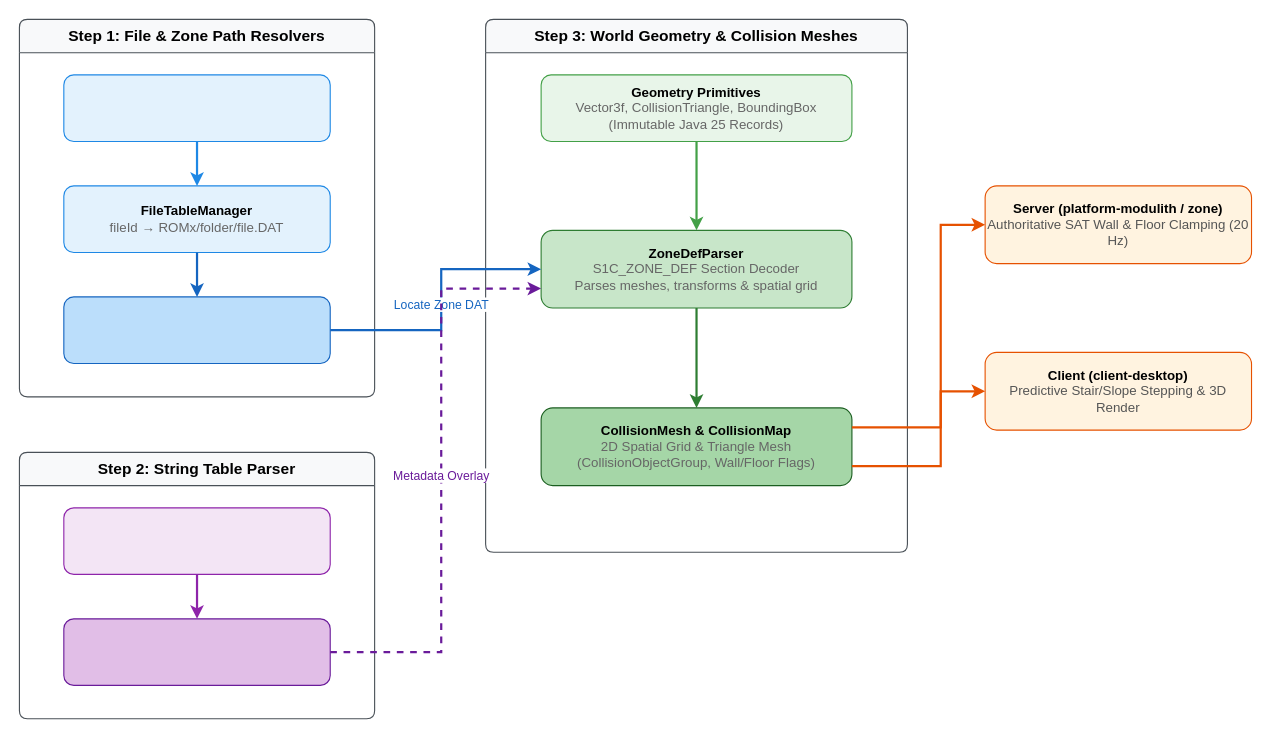
Image size: 1271x738. Some labels were removed from this diagram. The centre of each missing label's shape, as x and y in pixels:
"StringTableParser Shift-JIS binary tables & control code sanitization" belongs at point (196, 540).
"VTable & FTable Binary index parsing (VTABLE.DAT & FTABLE.DAT)" belongs at point (196, 108).
"ZoneNamesTable zoneId → localized name (from ROM/165/84.DAT)" belongs at point (196, 651).
"ZonePathResolver zoneId → canonical DAT path (e.g. 100 → ROM/0/120.DAT)" belongs at point (196, 330).
